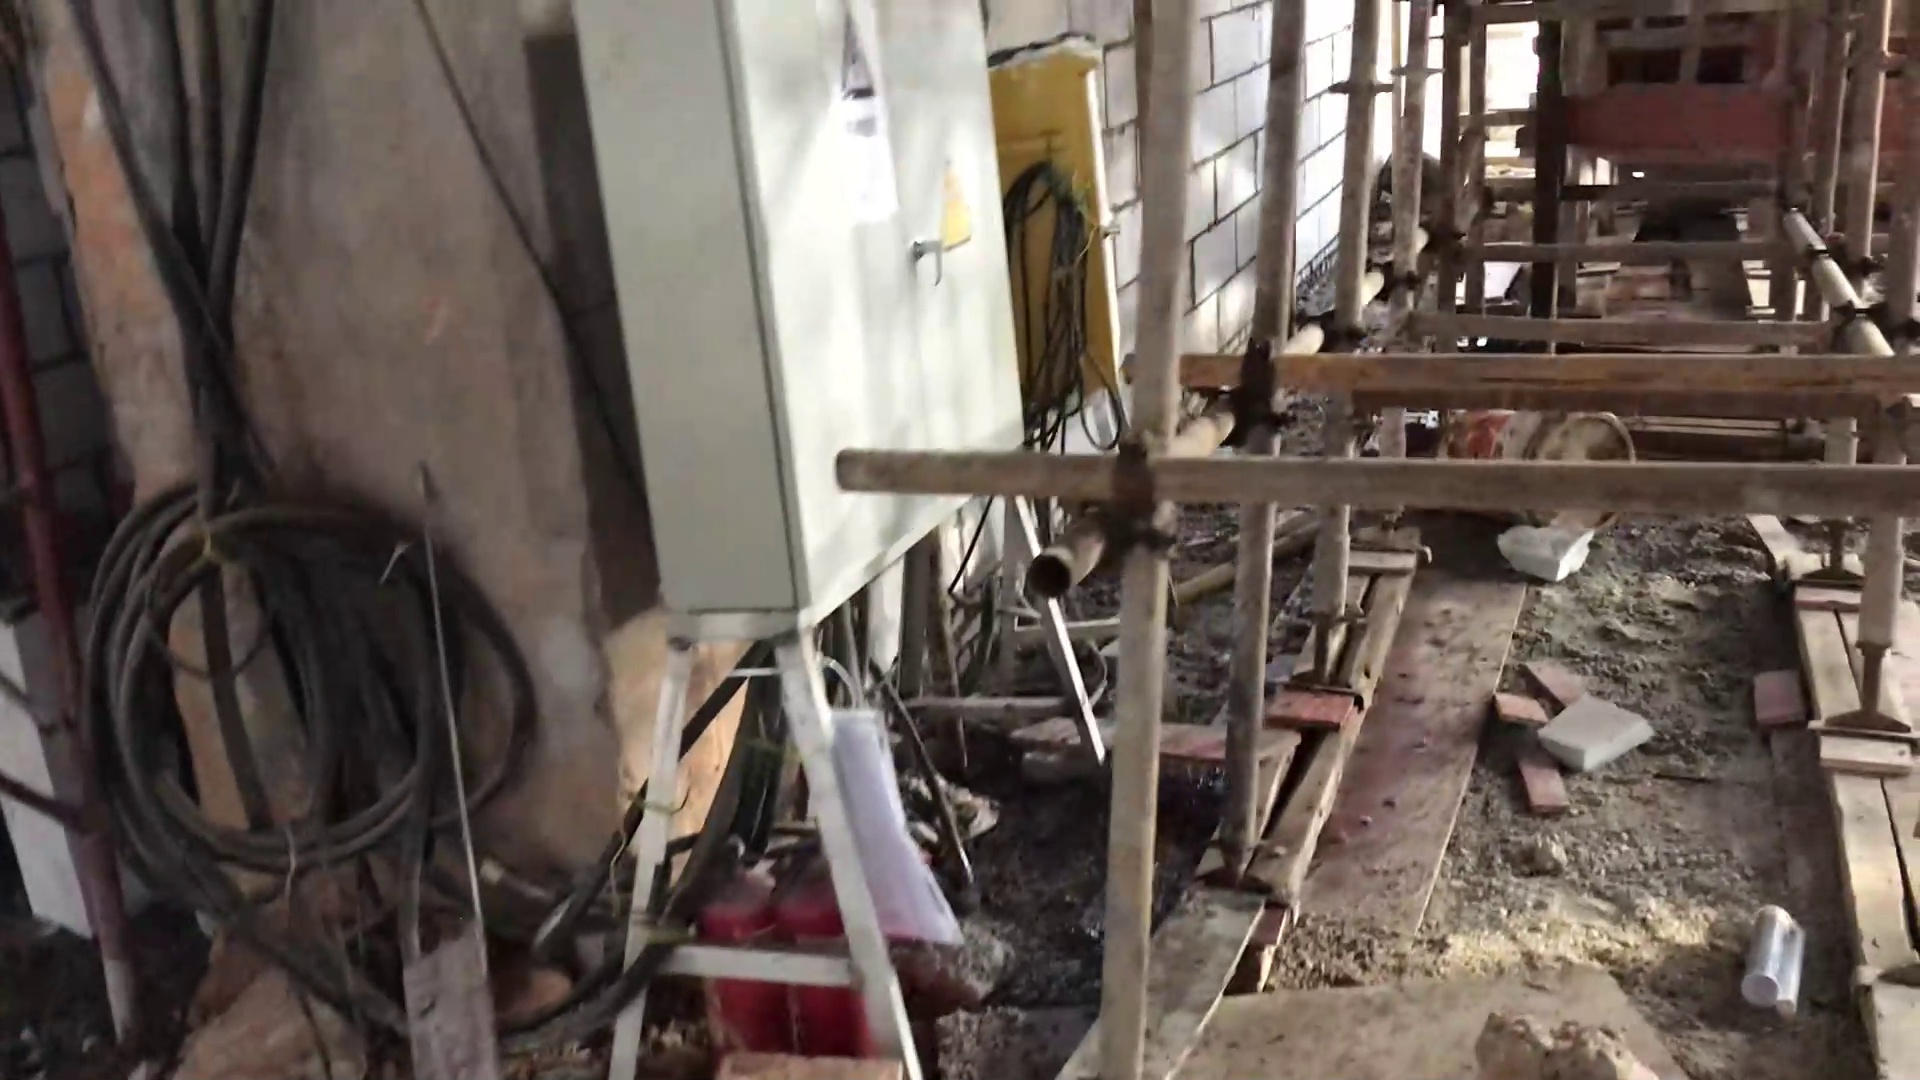ebox: (562, 1, 1033, 616), (976, 26, 1127, 411)
